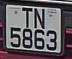3: (45, 29, 58, 52)
5: (9, 26, 23, 50)
6: (33, 29, 46, 51)
8: (22, 28, 34, 50)
N: (33, 6, 47, 31)
T: (20, 4, 34, 31)
